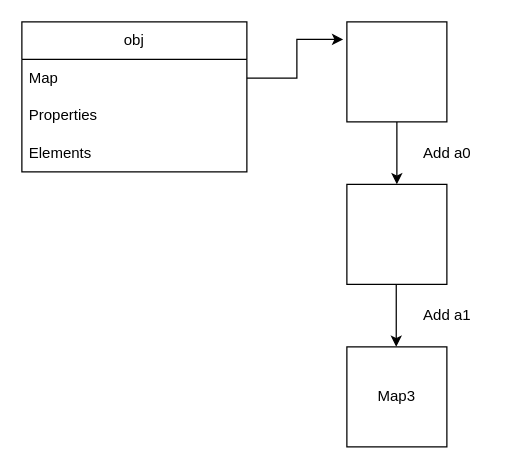
Some shapes in this 506 by 469 pixel diagram are drawn without their labels. Here are the shapes that lost their labels. From the top down, the box of each, then its label:
(346, 21, 447, 122): Map1
(346, 183, 447, 284): Map2
